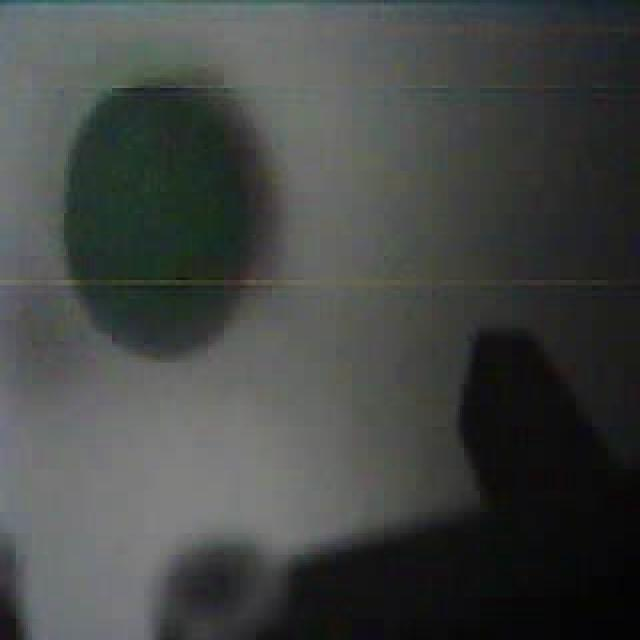green_ball: (58, 80, 278, 363)
